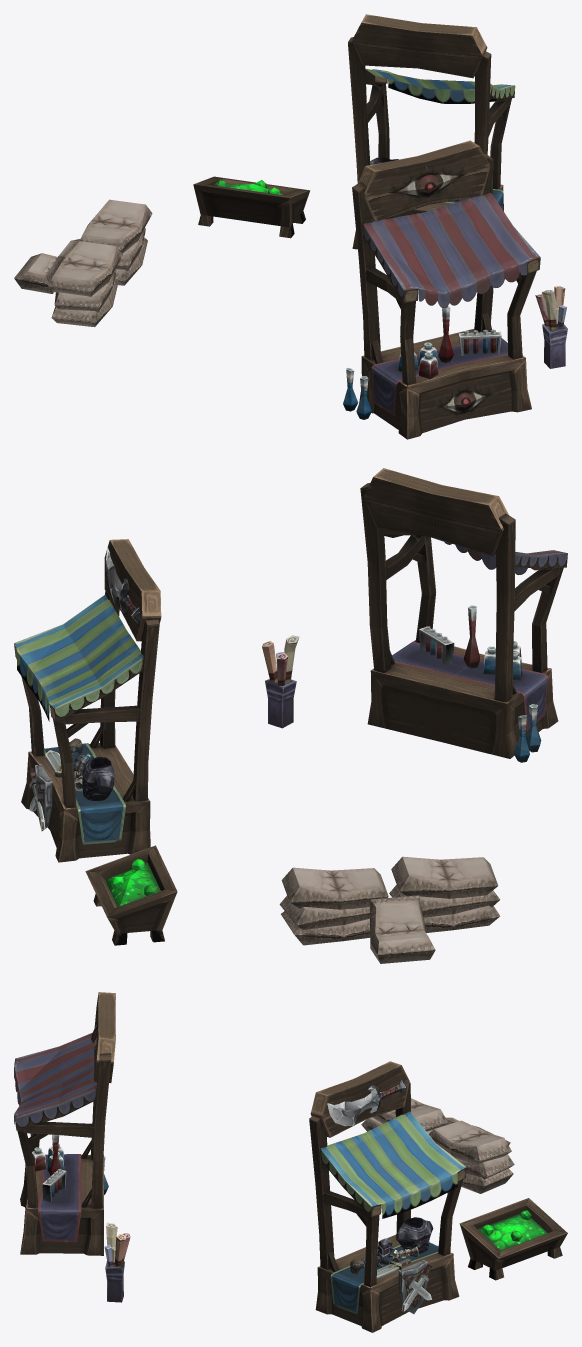
The model's file is object_market_items02.fbx.
The picture shows the model from 3 angles, top to bottom: view 1: azimuth 30°, elevation 25°; view 2: azimuth 150°, elevation 25°; view 3: azimuth 270°, elevation 25°; orthographic projection. The views are drawn at different scales.
Parts seen in each view (by area): view 1: obj5.003; view 2: obj5.003; view 3: obj5.003.
Boxes of the visible parts, box(x1,y1,x2,y2) form: obj5.003: box(14, 14, 567, 439); obj5.003: box(14, 468, 567, 963); obj5.003: box(14, 992, 567, 1332).
Size of the model in its own units: 9.66 by 4.99 by 11.24.
